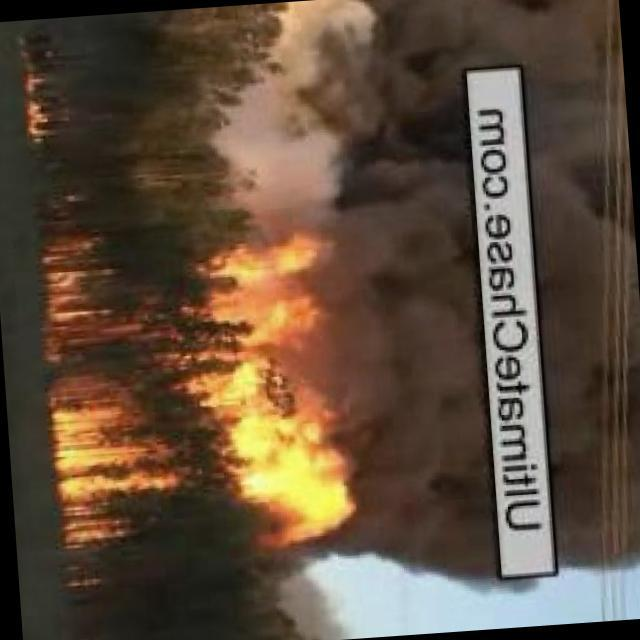Fire: (37, 227, 358, 564), (24, 65, 61, 144)
